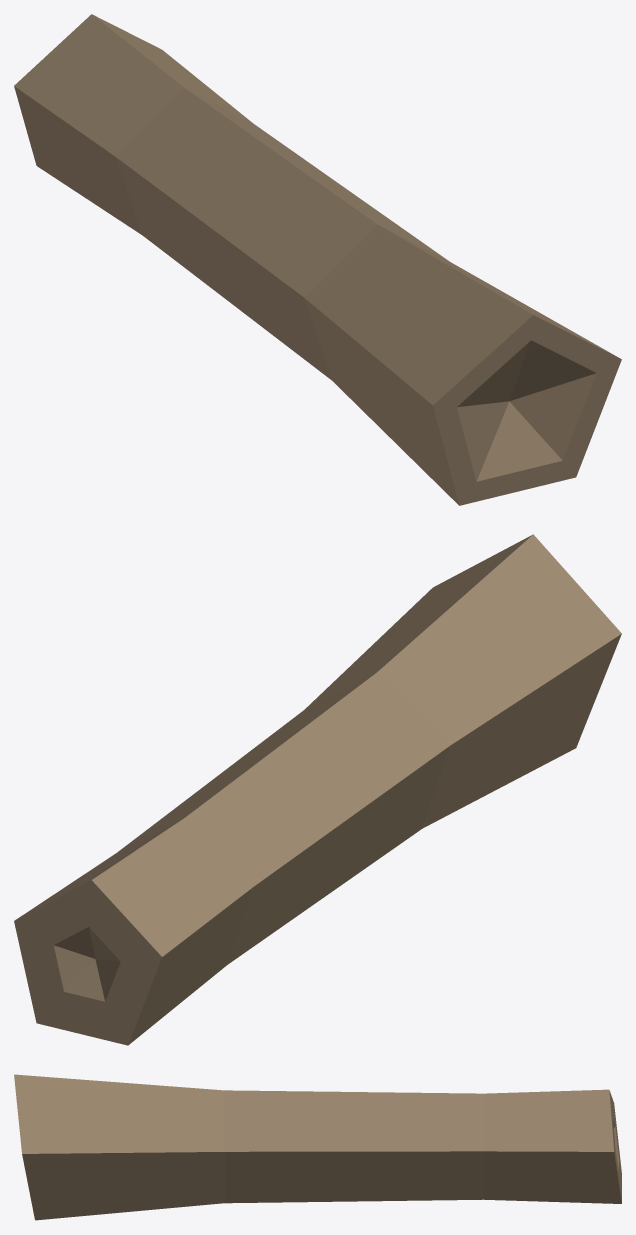
Rendered from LP_PostApoc_TatteredNewspaperAC.fbx.
3 renders of one model, top to bottom at view 1: azimuth 30°, elevation 25°; view 2: azimuth 150°, elevation 25°; view 3: azimuth 270°, elevation 25°, orthographic. The views are drawn at different scales.
Parts seen in each view (by area): view 1: TatteredNewspaperAC; view 2: TatteredNewspaperAC; view 3: TatteredNewspaperAC.
Part boxes in pixels (x1,y1,x2,y2): TatteredNewspaperAC: (14,14,621,505); TatteredNewspaperAC: (14,534,621,1045); TatteredNewspaperAC: (14,1074,621,1220).
Bounding box in the file's own units: 7.87 × 7.49 × 32.54.
